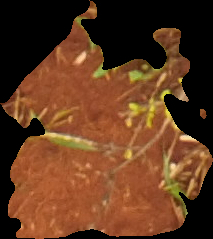soil: (1, 2, 213, 237)
